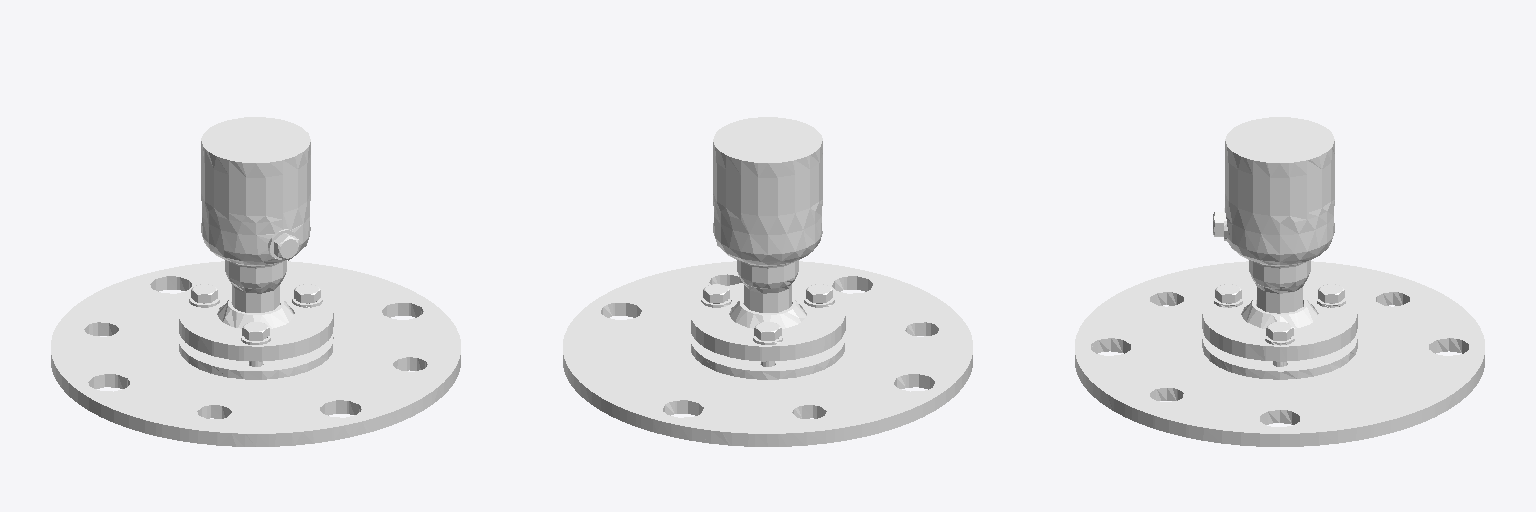
Rendered from flange_14-b7-vertice-merge-fix.obj.
The picture shows the model from 3 angles: view 1: azimuth 30°, elevation 25°; view 2: azimuth 150°, elevation 25°; view 3: azimuth 270°, elevation 25°; orthographic projection.
Bounding box in the file's own units: 225 × 140 × 225.